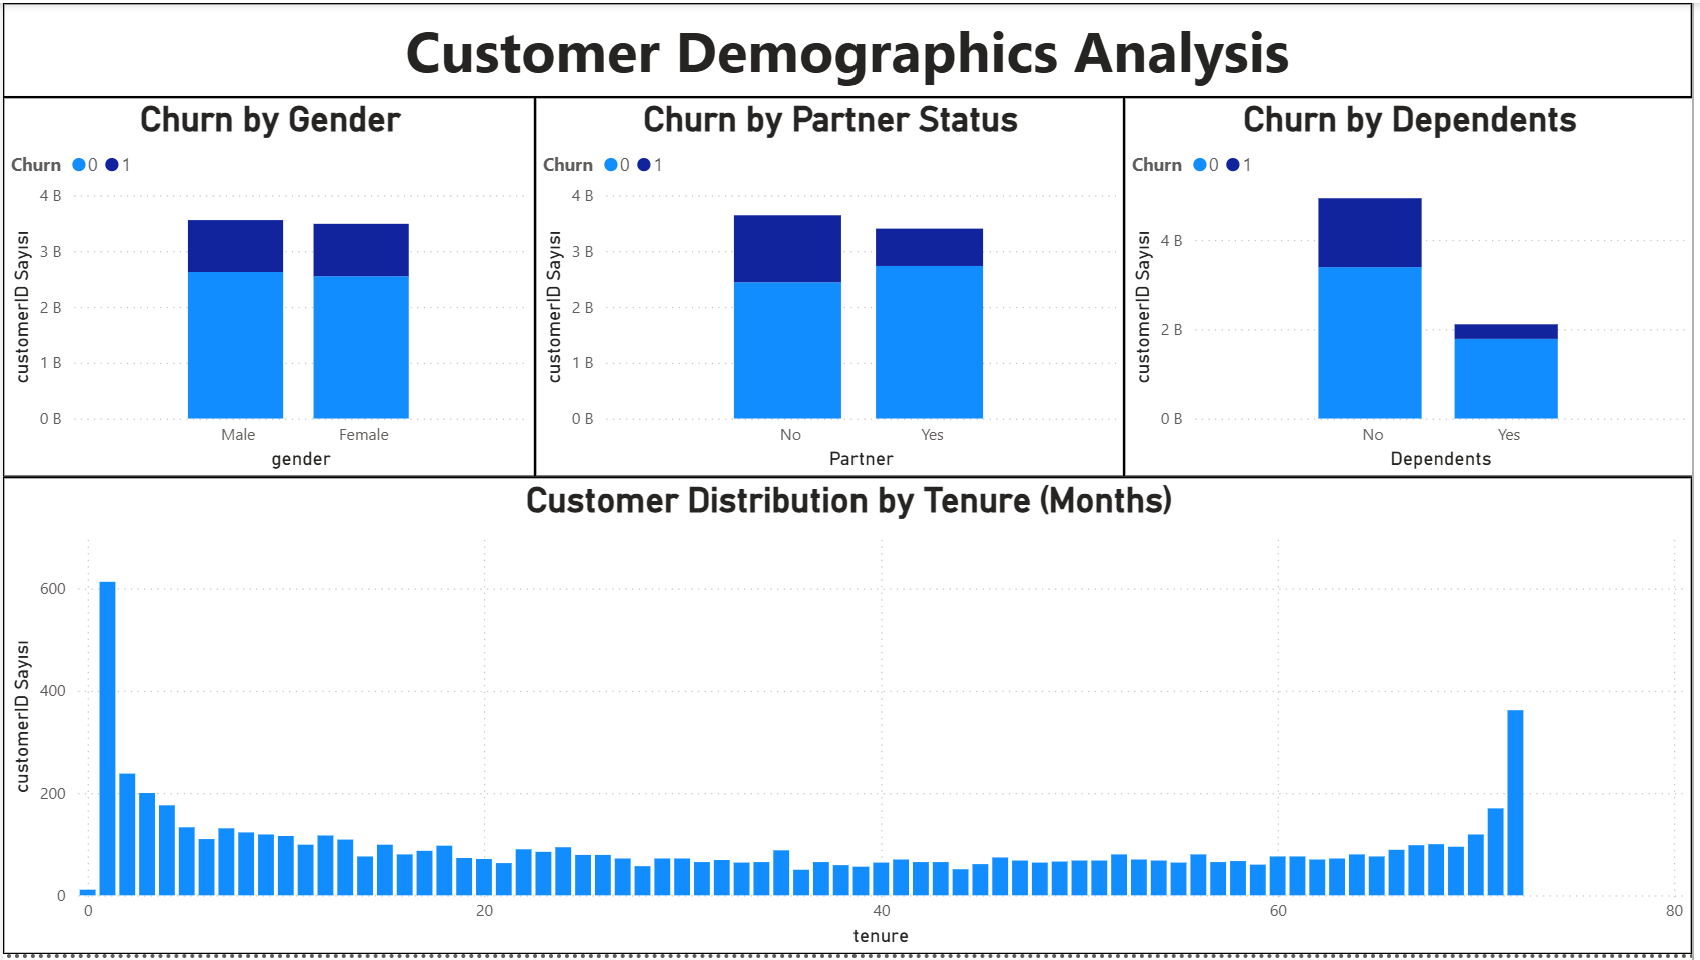

What the dashboard file says about the page in this screenshot:
{"tool":"powerbi","page":{"name":"Demographics","canvas":[1280,720],"ordinal":1},"visuals":[{"type":"textbox","box":[0,0,1280,71.3],"z":0},{"type":"columnChart","title":"Churn by Gender","fields":{"Category":["telco_customer_churn_cleaned.gender"],"Y":["CountNonNull(telco_customer_churn_cleaned.customerID)"],"Series":["telco_customer_churn_cleaned.Churn"]},"box":[0,71.3,403.4,288.2],"z":1000},{"type":"columnChart","title":"Churn by Partner Status","fields":{"Category":["telco_customer_churn_cleaned.Partner"],"Y":["CountNonNull(telco_customer_churn_cleaned.customerID)"],"Series":["telco_customer_churn_cleaned.Churn"]},"box":[403.4,71.3,445.9,288.2],"z":1001},{"type":"columnChart","title":"Churn by Dependents","fields":{"Category":["telco_customer_churn_cleaned.Dependents"],"Y":["CountNonNull(telco_customer_churn_cleaned.customerID)"],"Series":["telco_customer_churn_cleaned.Churn"]},"box":[849.3,71.3,432.2,288.2],"z":1002},{"type":"columnChart","title":"Customer Distribution by Tenure (Months)","fields":{"Category":["telco_customer_churn_cleaned.tenure"],"Y":["CountNonNull(telco_customer_churn_cleaned.customerID)"]},"box":[0,359.4,1280,360.9],"z":1003}]}

Visuals, with their boxes in screenshot pixels (x1, y1, x2, y2), scaled from the page's 1280x720 canvas onto the 1700x960 screenshot:
textbox: <region>0, 0, 1699, 95</region>
"Churn by Gender" columnChart: <region>0, 95, 536, 479</region>
"Churn by Partner Status" columnChart: <region>536, 95, 1128, 479</region>
"Churn by Dependents" columnChart: <region>1128, 95, 1699, 479</region>
"Customer Distribution by Tenure (Months)" columnChart: <region>0, 479, 1699, 959</region>
